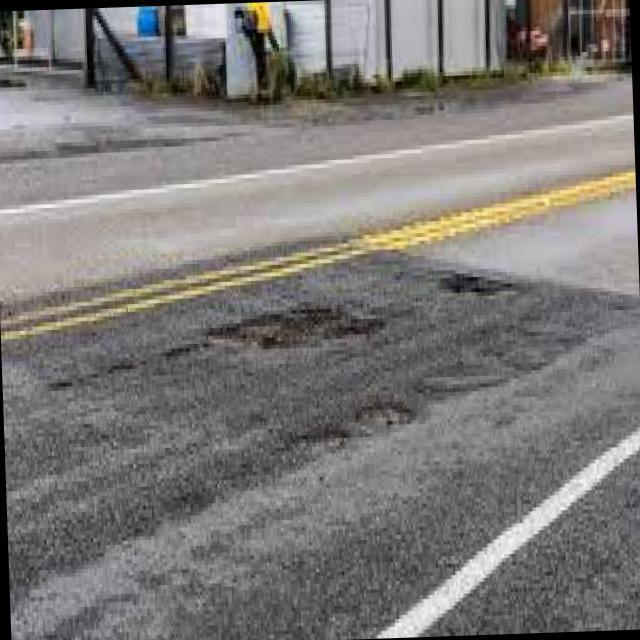pothole: (208, 304, 384, 349), (440, 270, 511, 293), (301, 429, 350, 462), (355, 399, 412, 426), (160, 344, 201, 363), (106, 359, 138, 375), (48, 380, 74, 391), (88, 372, 100, 377), (78, 379, 84, 382)
